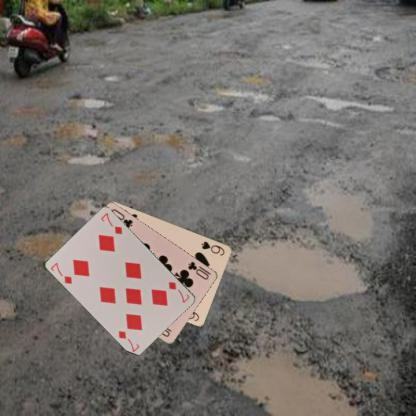10c: (186, 259, 210, 281)
6s: (199, 238, 226, 257)
7d: (166, 279, 191, 304), (48, 260, 73, 285)
